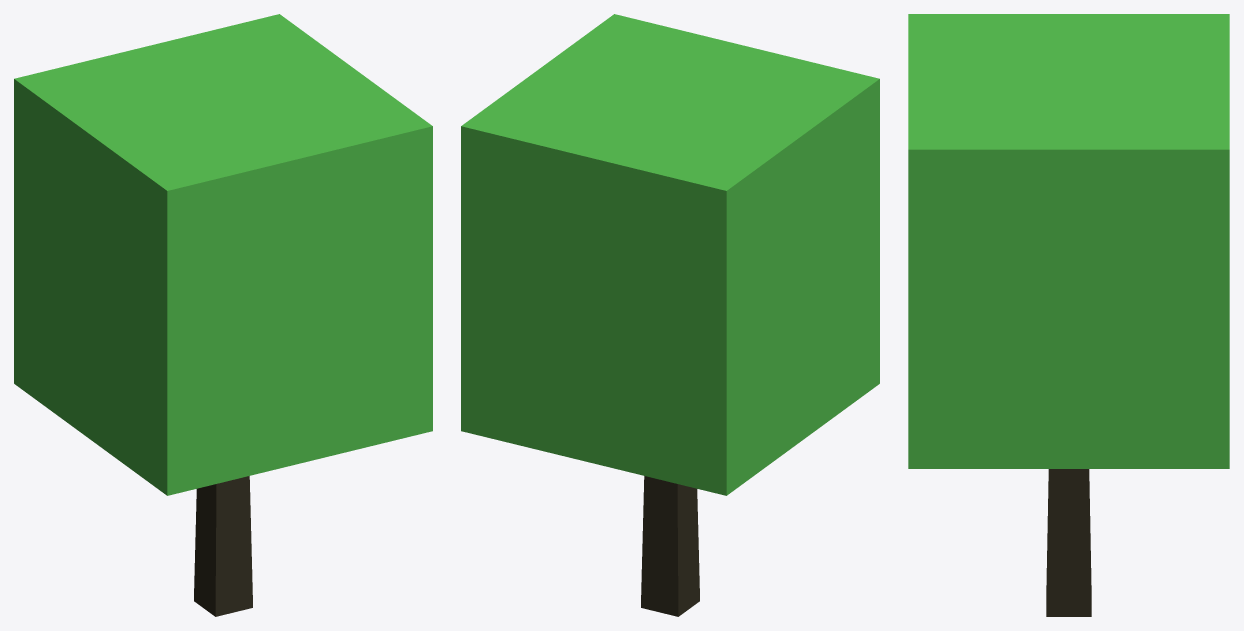
Rendered from ash.glb.
3 renders of one model, left to right at view 1: azimuth 30°, elevation 25°; view 2: azimuth 150°, elevation 25°; view 3: azimuth 270°, elevation 25°, orthographic. The views are drawn at different scales.
Visible parts, largest first — view 1: Cube.001, Cube; view 2: Cube.001, Cube; view 3: Cube.001, Cube.
Part boxes in pixels (bbox=[...]): Cube.001: bbox=[14, 14, 432, 495]; Cube: bbox=[194, 476, 252, 616]; Cube.001: bbox=[461, 14, 879, 495]; Cube: bbox=[641, 476, 699, 616]; Cube.001: bbox=[908, 14, 1229, 468]; Cube: bbox=[1046, 469, 1091, 616].
Bounding box in the file's own units: 4.18 × 7.55 × 4.18.
